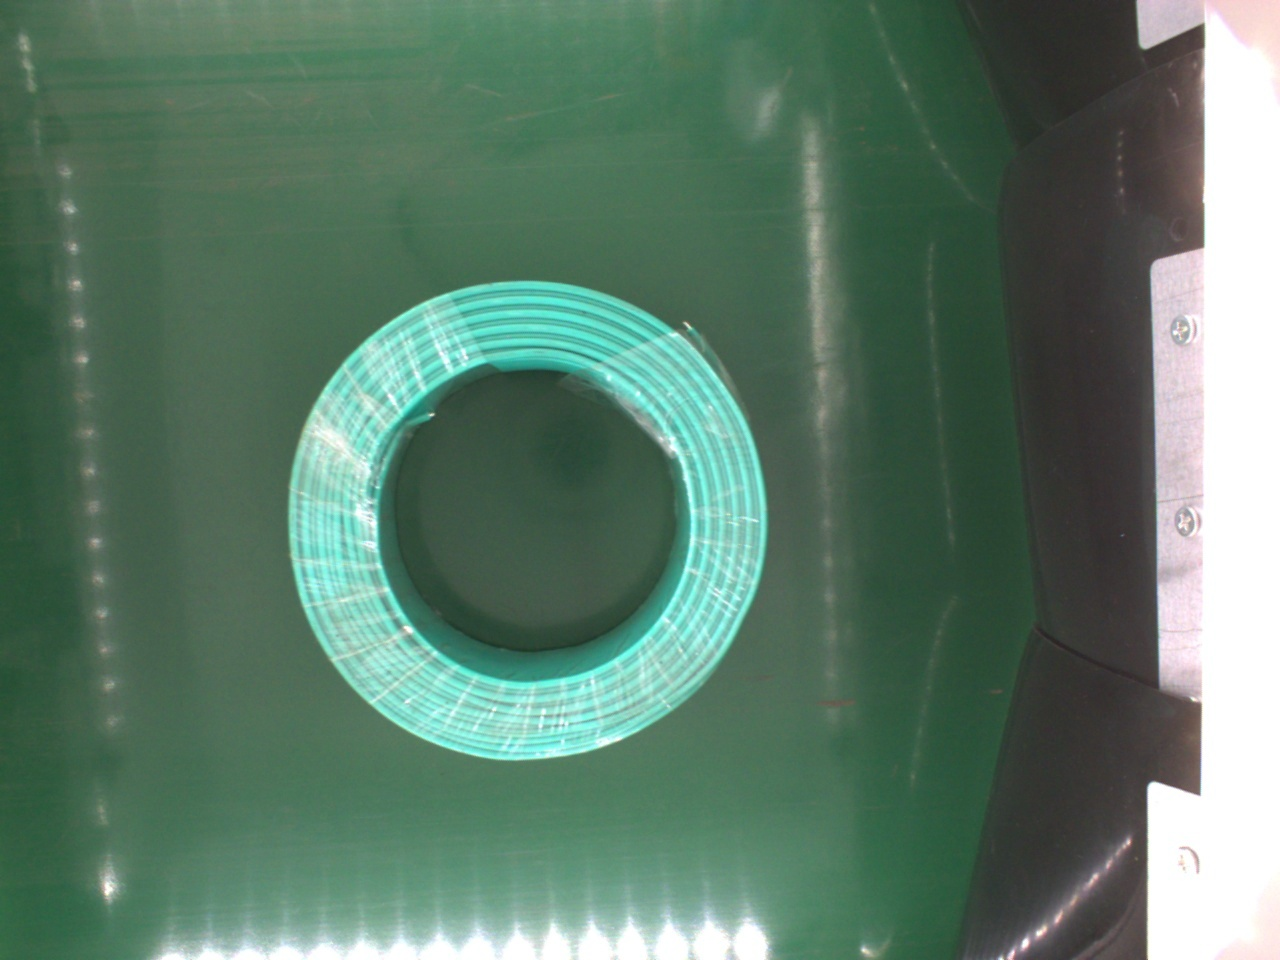green: (284, 277, 768, 761)
